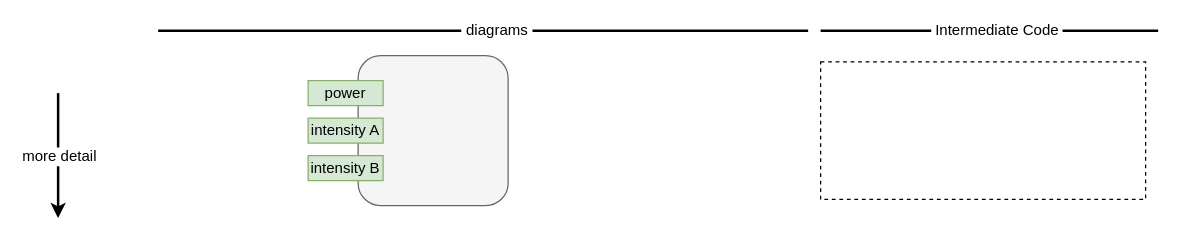
This 1181x251 diagram has some shape labels left out. The shapes that lost their labels are listed below. From the top down, each one's centre as x and y in pixels, then its label:
[432,130]: _ [System]
[982,130]: { type: "AG", inputs: [power, intensity A, intensity B], outputs: [ ] }
